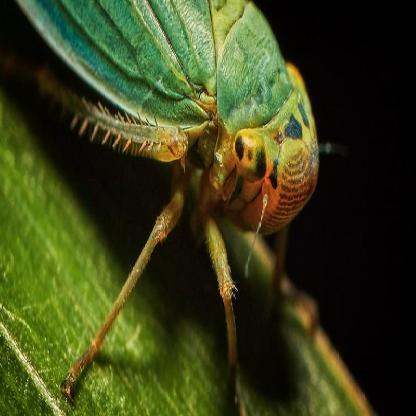Green-Leafhopper: (0, 3, 337, 415)
